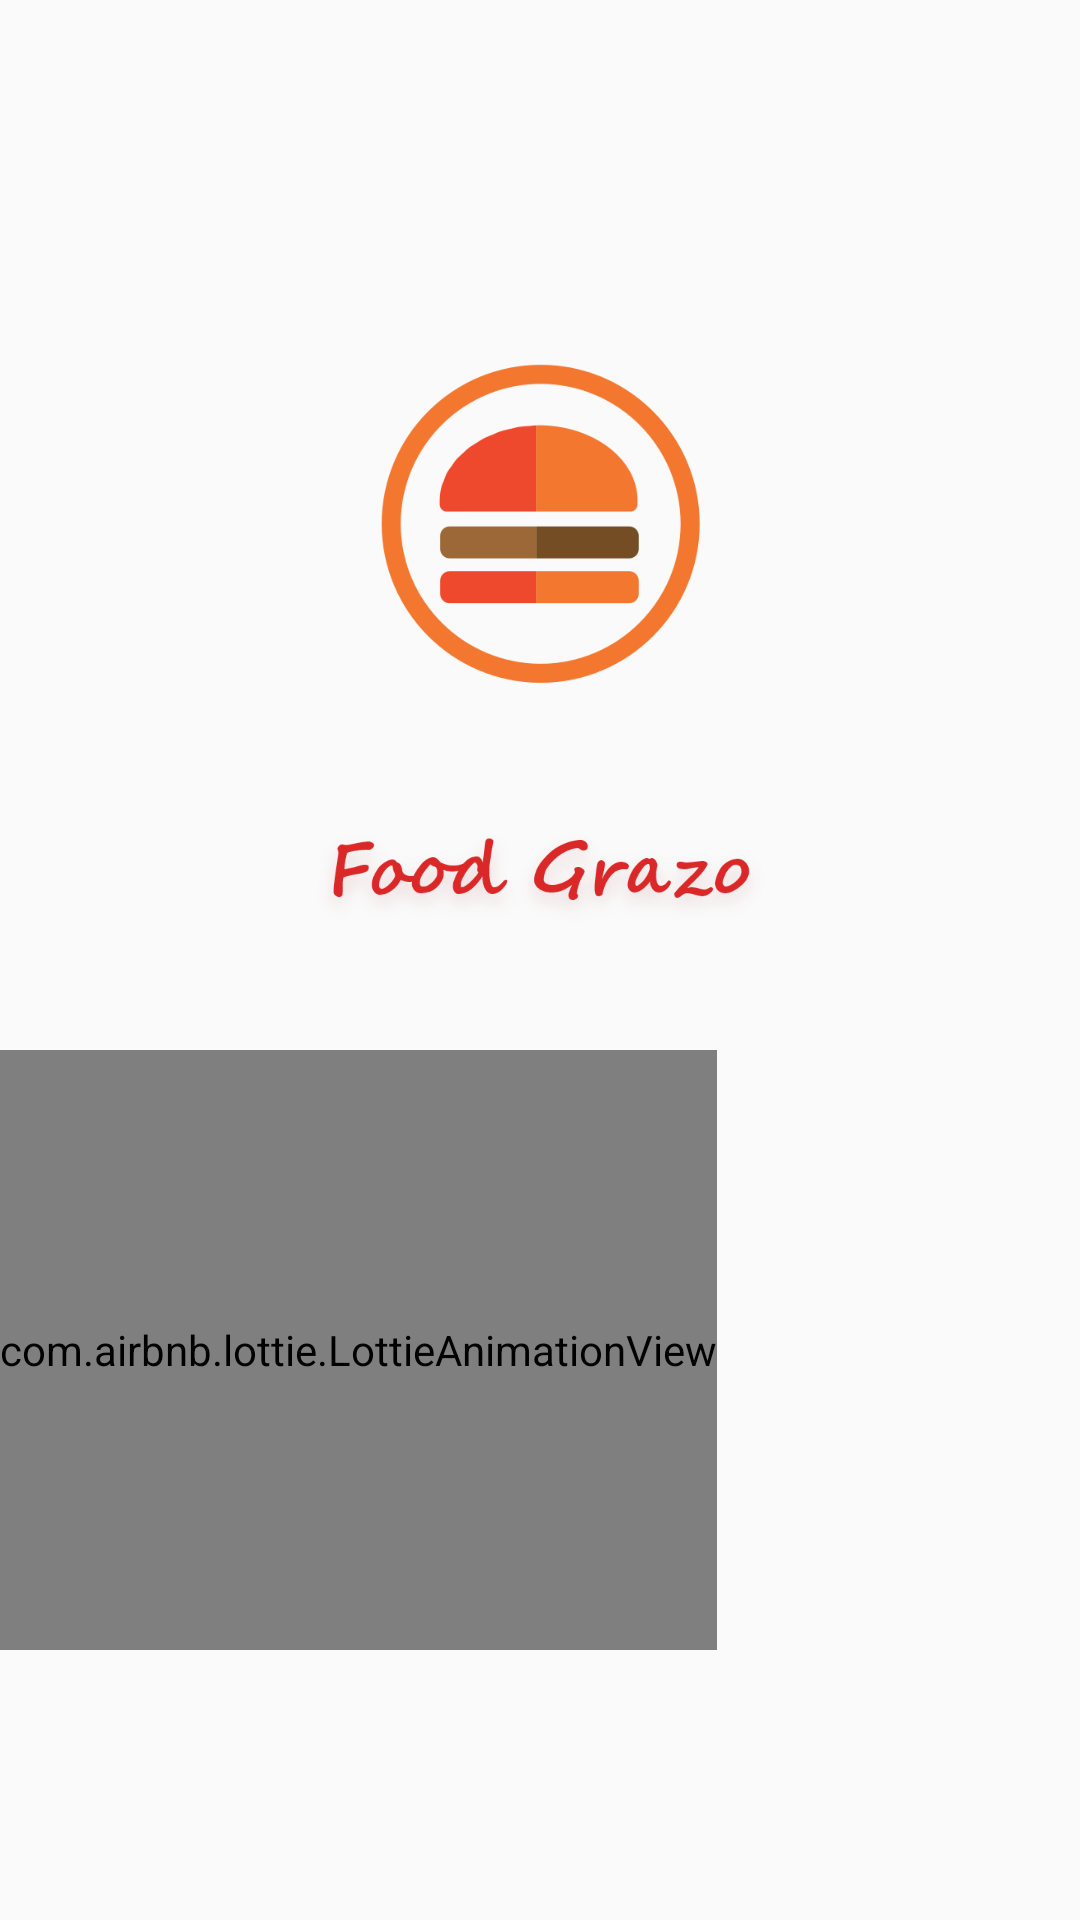

Icon click points for this 1080w x 1920h phone screenshot, format [x,y]:
foodgrazo: [540,523]
